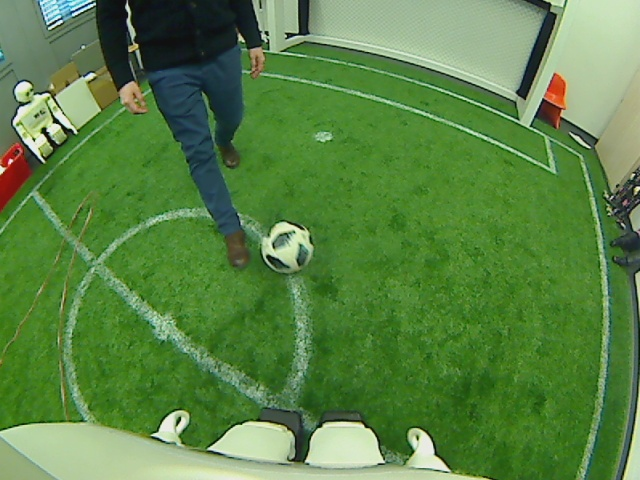ball: (261, 218, 314, 276)
